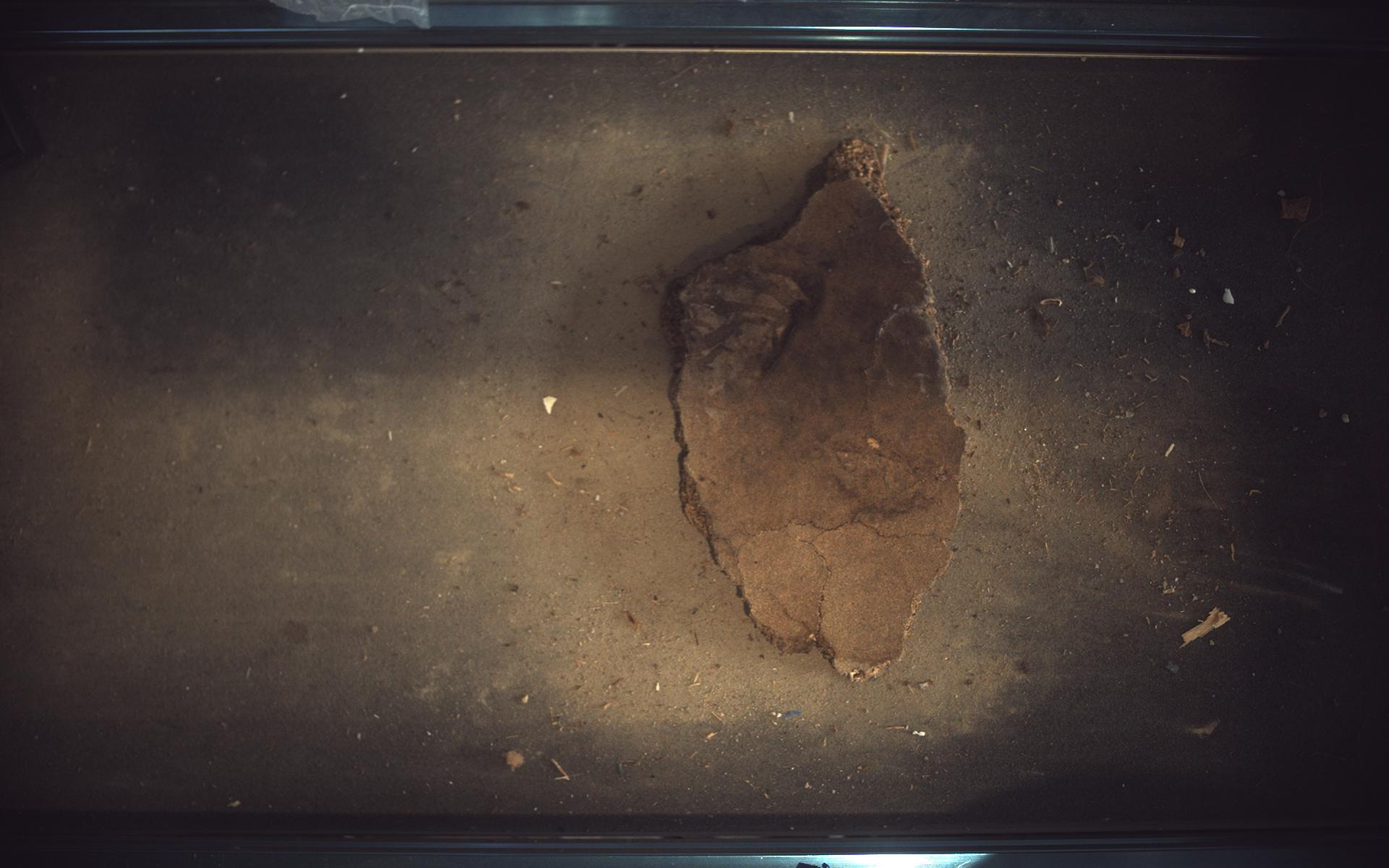wood: (667, 138, 967, 678)
